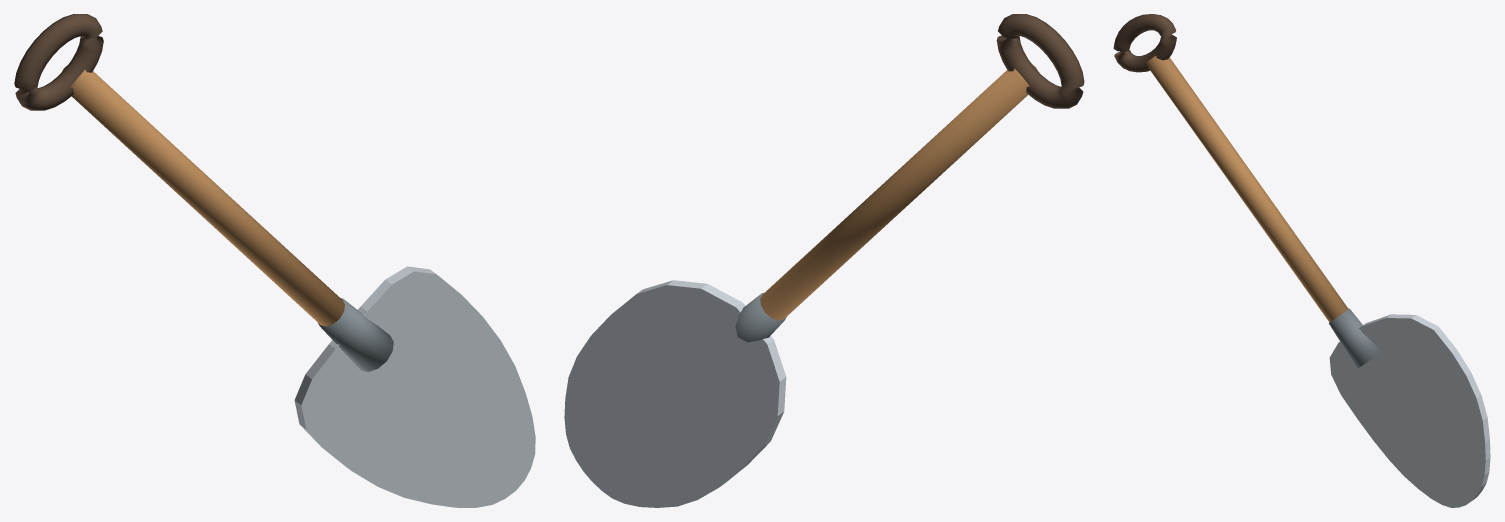
File: tool-shovel.glb
3 renders of one model, left to right at view 1: azimuth 30°, elevation 25°; view 2: azimuth 150°, elevation 25°; view 3: azimuth 330°, elevation 25°, orthographic. The views are drawn at different scales.
Visible parts, largest first — view 1: tool; view 2: tool; view 3: tool.
Part boxes in pixels (x1,y1,x2,y2): tool: (14,14,535,507); tool: (564,14,1084,507); tool: (1113,14,1490,507).
Bounding box in the file's own units: 0.7922 × 0.8604 × 0.0864.
